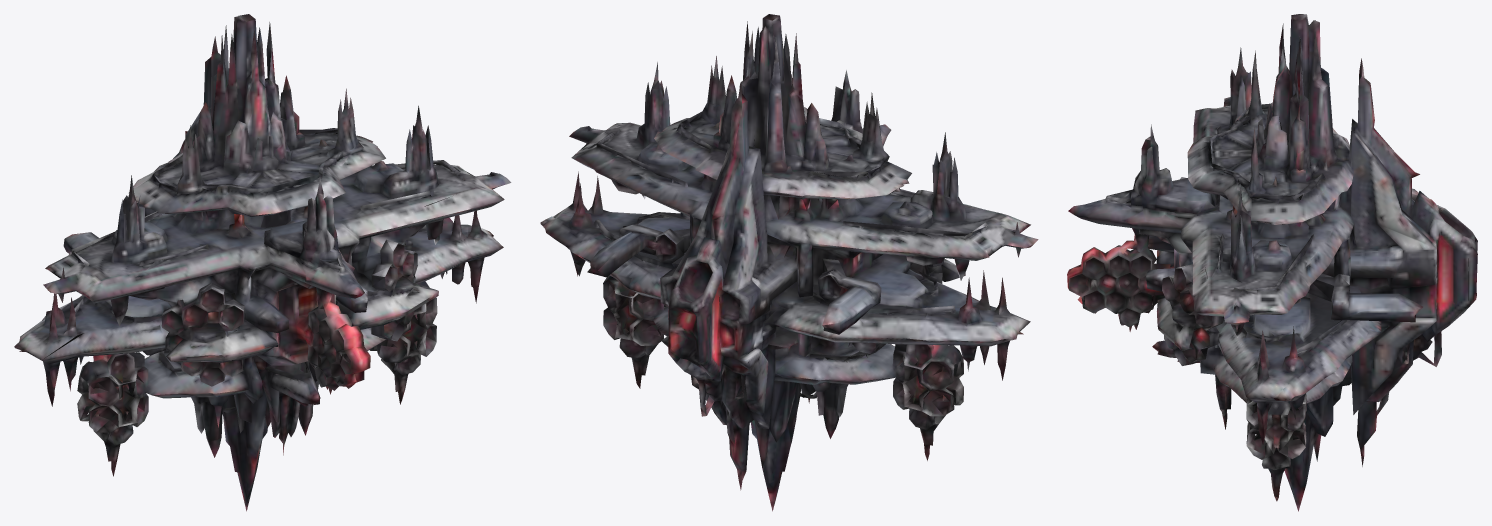
The model's file is HL_Station_Cybermorphs_Capital_retopo.glb.
3 views of the same model, side by side, from view 1: azimuth 30°, elevation 25°; view 2: azimuth 150°, elevation 25°; view 3: azimuth 270°, elevation 25° (orthographic).
Parts seen in each view (by area): view 1: HL_Station_Cybermorphs_Capital_retopo; view 2: HL_Station_Cybermorphs_Capital_retopo; view 3: HL_Station_Cybermorphs_Capital_retopo.
Boxes of the visible parts, x1,y1,x2,y2 form: HL_Station_Cybermorphs_Capital_retopo: (14, 14, 511, 511); HL_Station_Cybermorphs_Capital_retopo: (540, 14, 1038, 511); HL_Station_Cybermorphs_Capital_retopo: (1067, 14, 1477, 511).
Bounding box in the file's own units: 0.9752 × 0.9652 × 0.725.
Materials: 1 (1 with a texture image).
